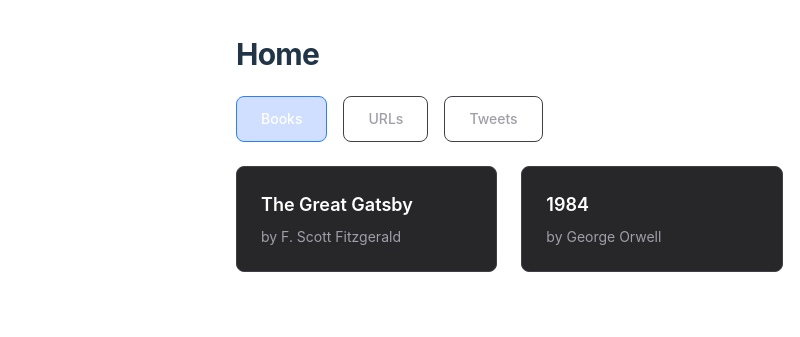
HomePage › Tab Navigation › switches back to Books tab when clicked
expect the heading "The Great Gatsby" is shown: met, box [261,194,413,215]
// Switch to URLs
Click the tab "URLs" at (386, 119), box [344,96,428,142]
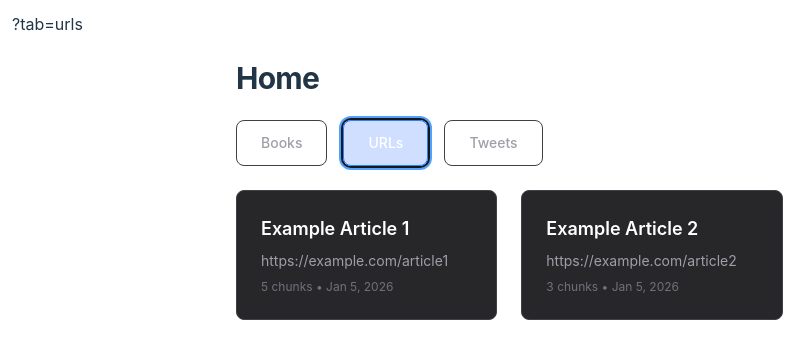
expect the heading "Example Article 1" is shown: met, box [261,218,409,239]
// Switch back to Books
Click the tab "Books" at (282, 143), box [236,120,328,166]
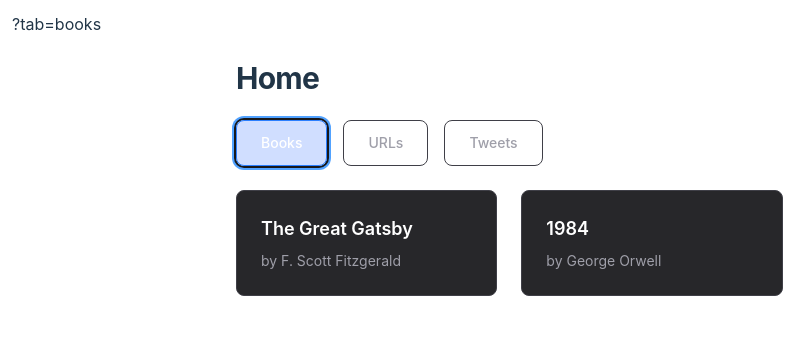
expect the heading "The Great Gatsby" is shown: met, box [261,218,413,239]
expect the heading "1984" is shown: met, box [546,218,589,239]
expect the button "Example Article 1" is gone: met
